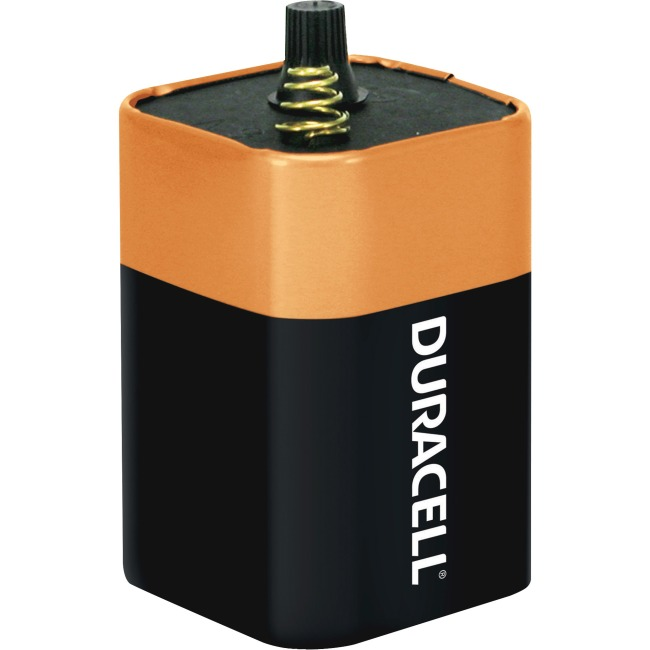6V: (107, 10, 555, 645)
